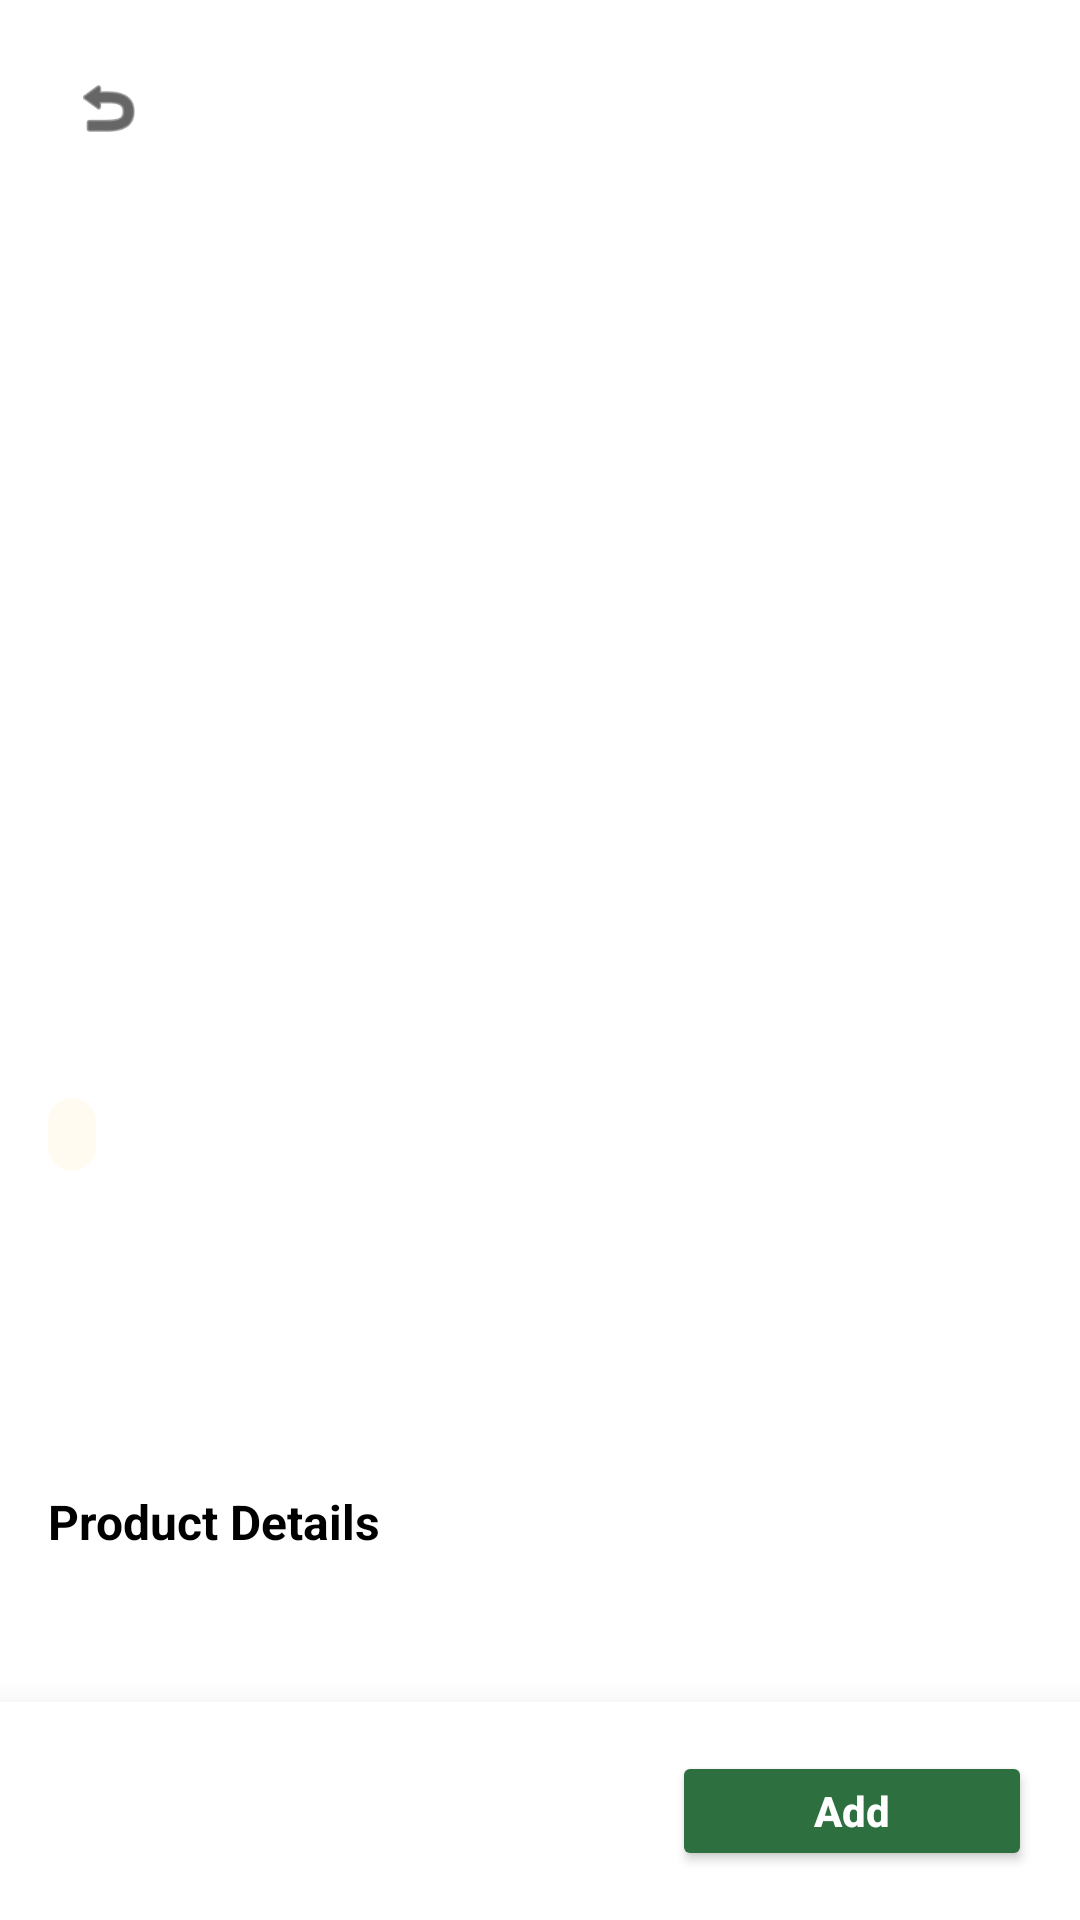

Icons on this 1080 x 1920 Android screen, each with the point to tap as (x,y):
revert: (109,108)
